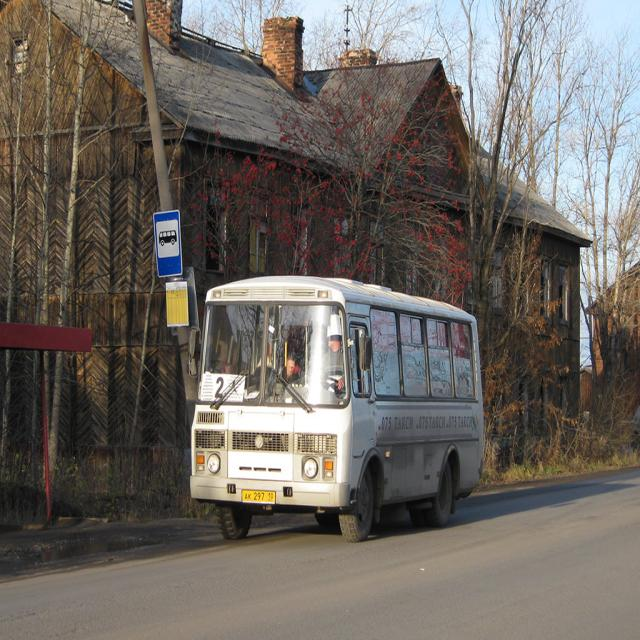number-of-bus: (216, 377, 225, 400)
